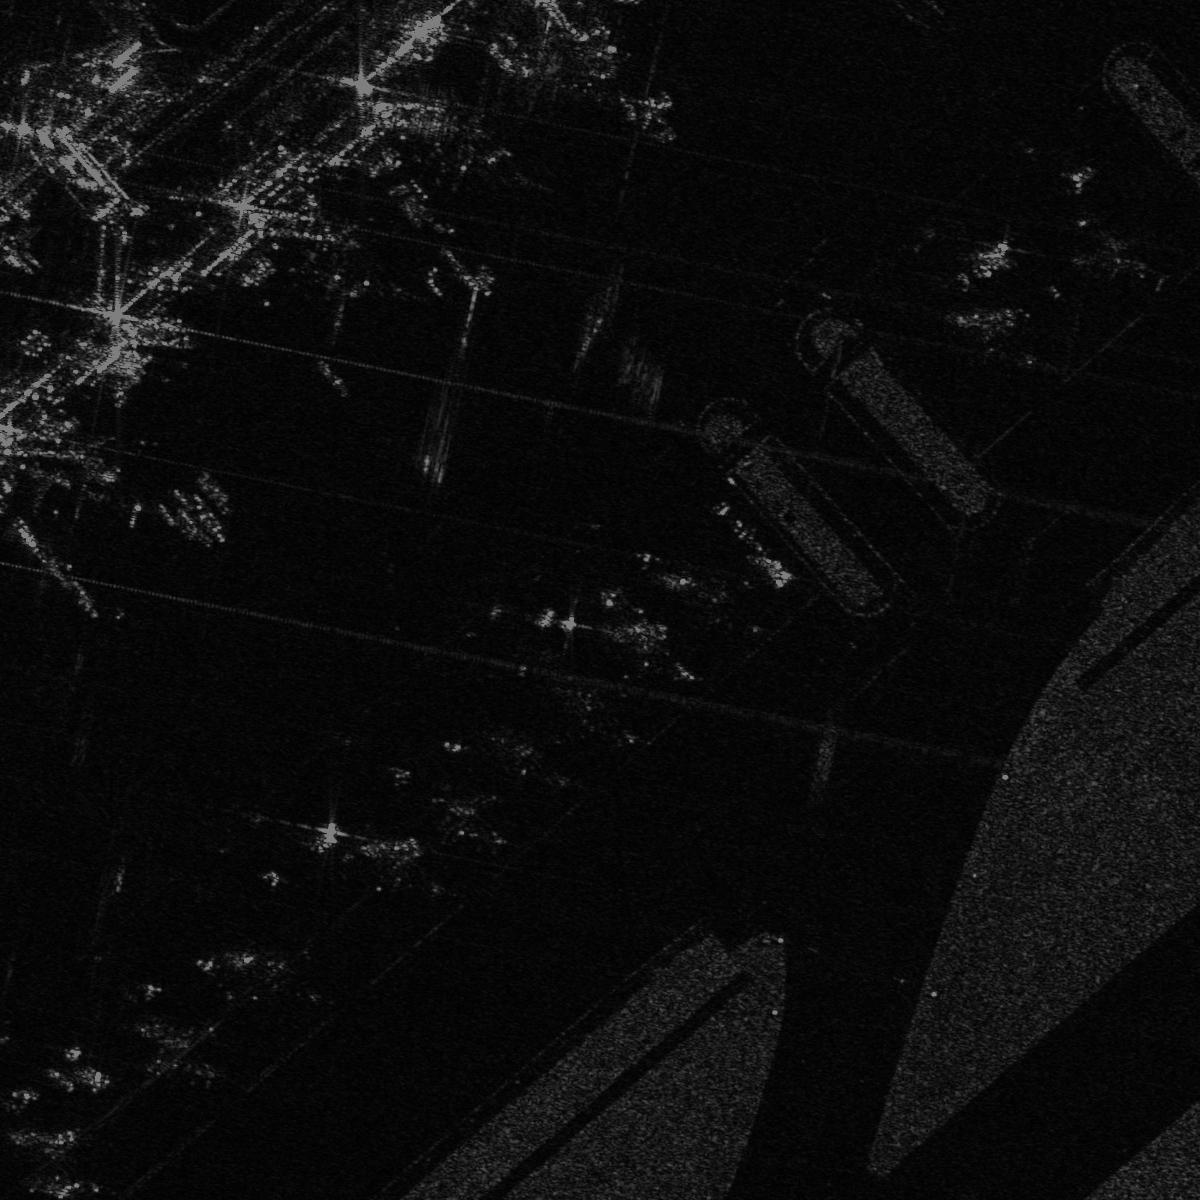A330: (31, 426, 151, 526)
Boeing737: (633, 545, 742, 640), (135, 1014, 243, 1102), (596, 589, 688, 691), (211, 941, 333, 1016), (541, 669, 647, 755), (1075, 205, 1173, 291), (492, 722, 591, 804), (940, 289, 1037, 370), (362, 837, 456, 911), (438, 784, 507, 854), (616, 88, 687, 146)
